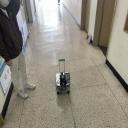cart: (56, 72, 70, 94)
